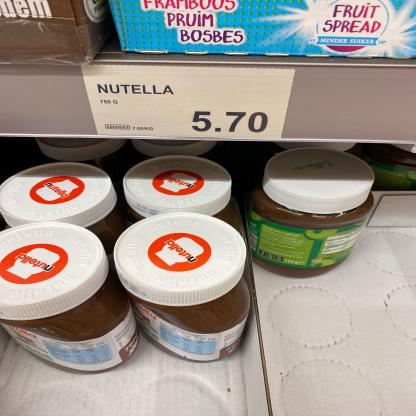prtg: (82, 66, 296, 139)
